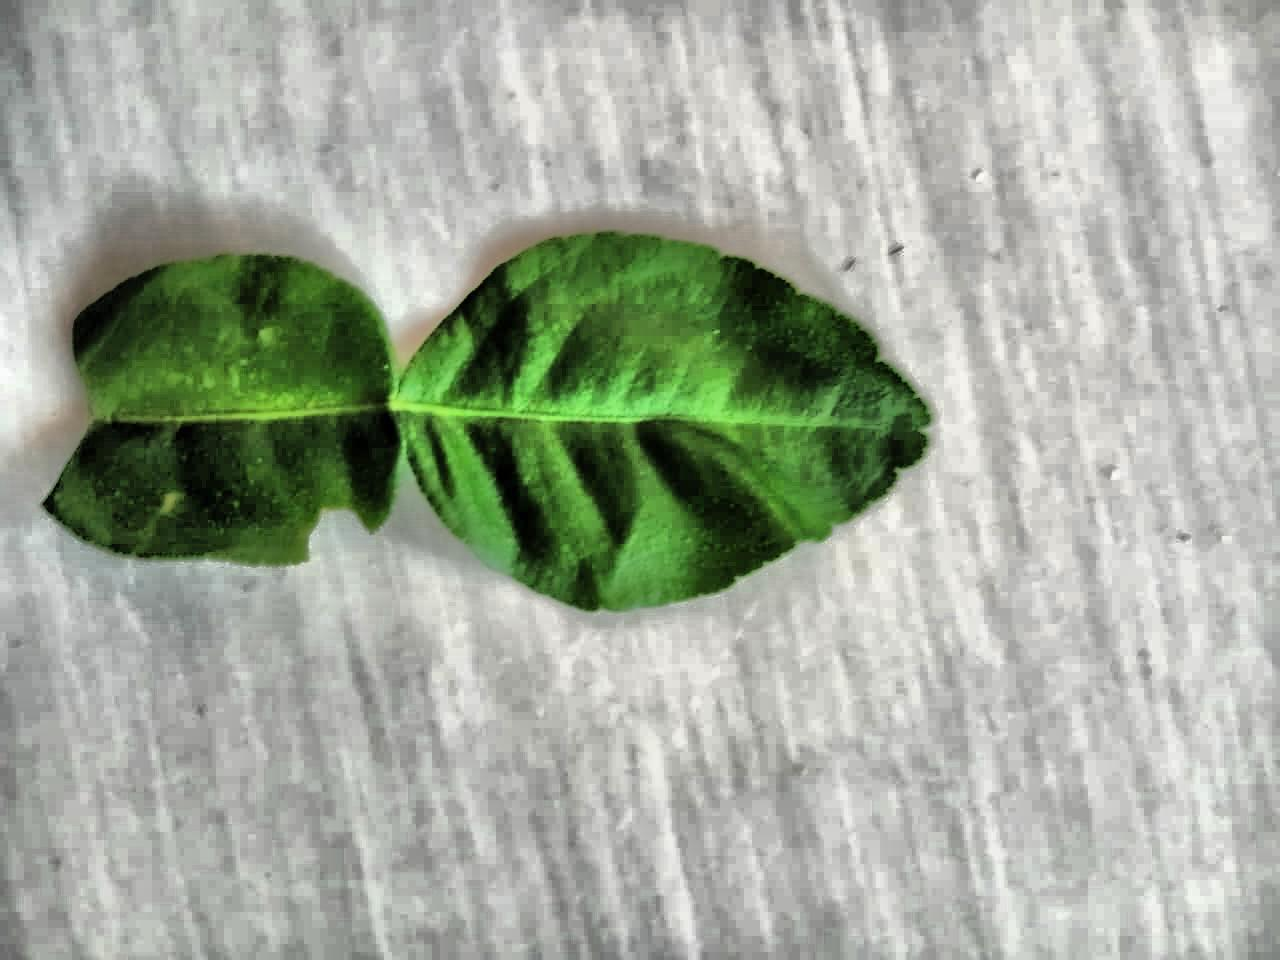daun jeruk: (42, 232, 931, 610)
